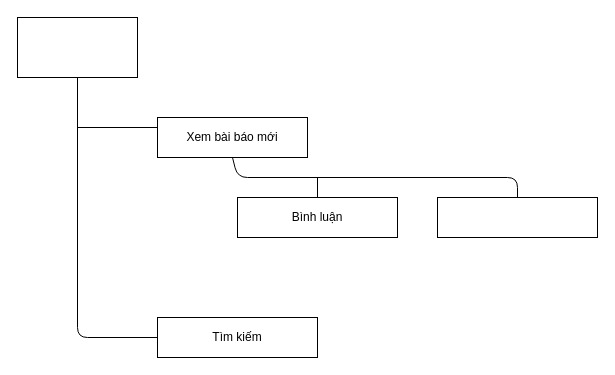
This 615x375 diagram has some shape labels left out. The shapes that lost their labels are listed below. From the top down, each one's centre as x and y in pixels, then its label:
At (x=77, y=47): "User".
At (x=517, y=217): "Đánh giá".
